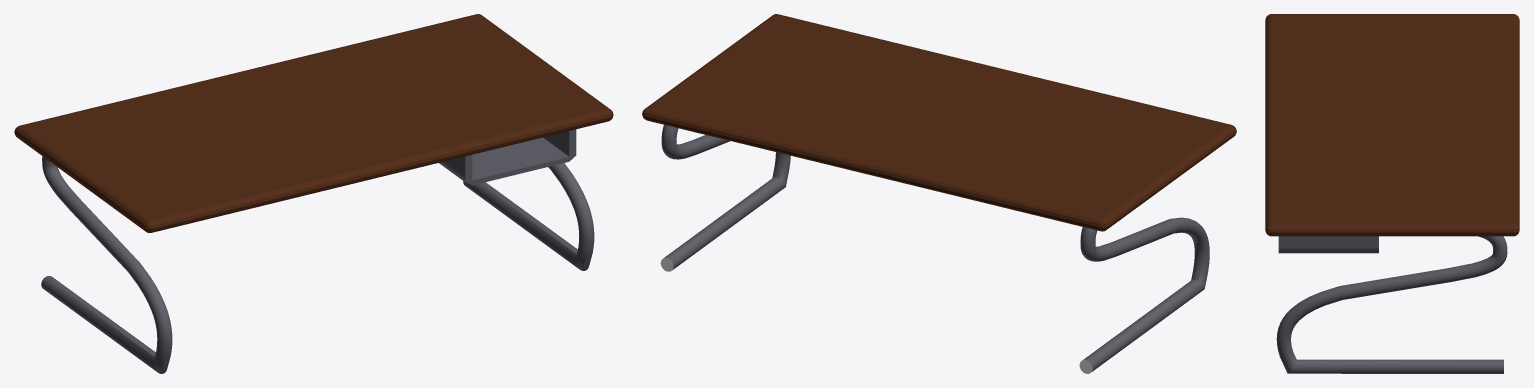
File: Bureau.fbx
3 renders of one model, left to right at view 1: azimuth 30°, elevation 25°; view 2: azimuth 150°, elevation 25°; view 3: azimuth 270°, elevation 25°, orthographic. The views are drawn at different scales.
Visible parts, largest first — view 1: Tafelblad, Ding, Bakje, ding1; view 2: Tafelblad, Ding, ding1; view 3: Tafelblad, ding1, Bakje.
Boxes of the visible parts, x1,y1,x2,y2 form: Tafelblad: (14, 14, 613, 232); Ding: (41, 156, 172, 373); Bakje: (439, 129, 576, 185); ding1: (463, 163, 594, 270); Tafelblad: (642, 14, 1236, 231); Ding: (1080, 217, 1209, 371); ding1: (661, 125, 790, 269); Tafelblad: (1265, 14, 1519, 236); ding1: (1276, 236, 1507, 373); Bakje: (1278, 236, 1378, 253).
Size of the model in its own units: 200 by 67.32 by 100.
